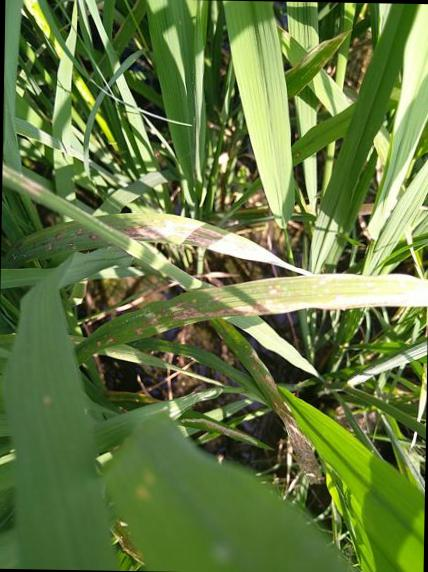Leaf Streak: (78, 273, 428, 351), (209, 319, 321, 478), (95, 212, 312, 276), (284, 29, 351, 98)
